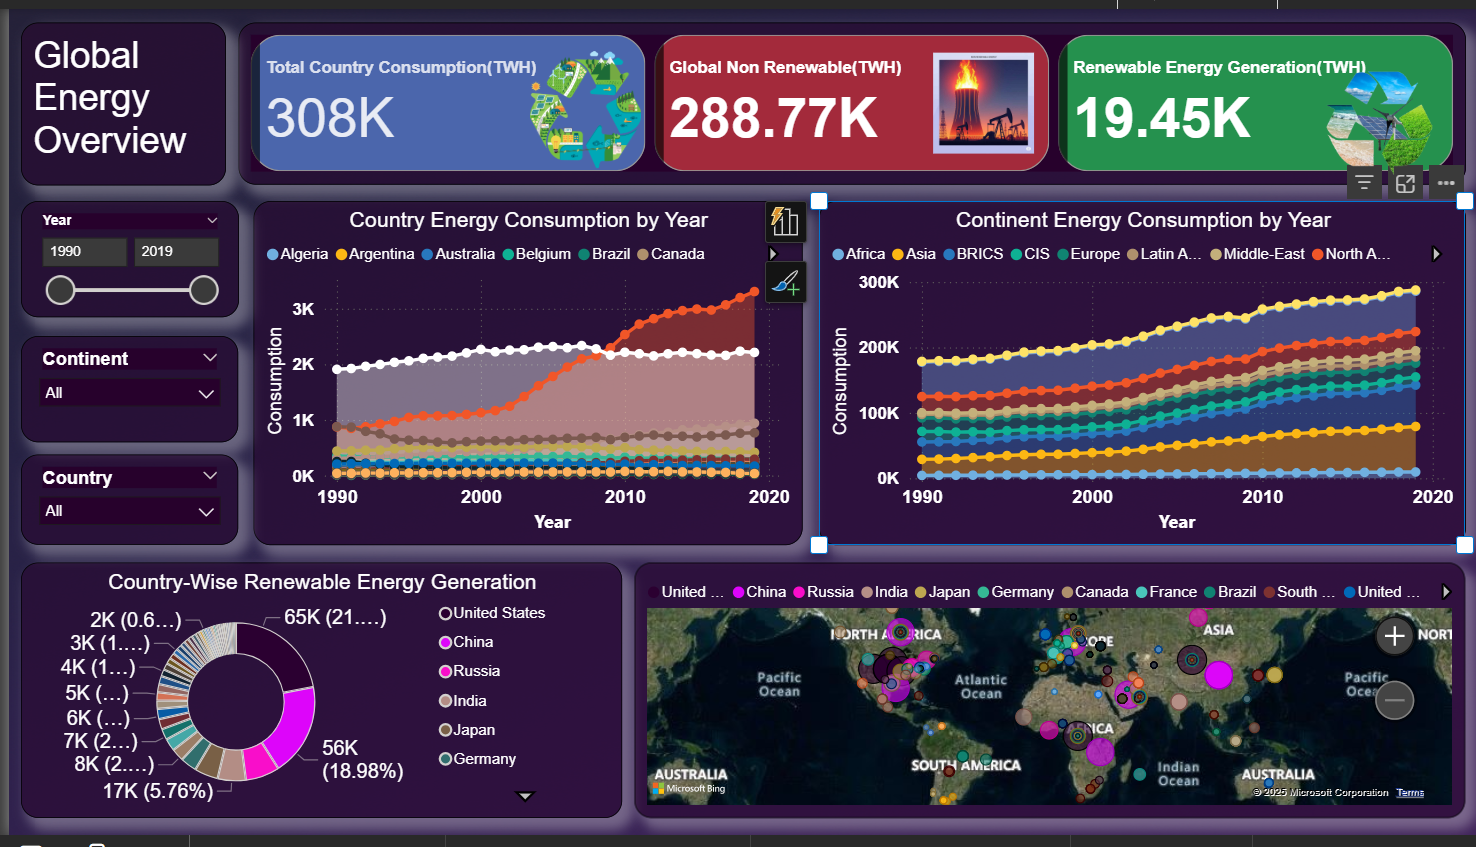

The dashboard page shown, as its layout file describes it:
{"tool":"powerbi","page":{"name":"Global Energy Overview","canvas":[1280,720],"ordinal":0},"visuals":[{"type":"cardVisual","fields":{"Data":["Country_Consumption_TWH.Total_Global_Consumption","nonRenewablesTotalPowerGeneration.Total Non- Renewable","Sum(renewablesTotalPowerGeneration.Contribution (TWh))"]},"box":[200,11.4,1070,141.4],"z":0},{"type":"textbox","box":[10,11.7,178.3,141.7],"z":1000},{"type":"clusteredColumnChart","title":"Country-Wise Renewable Energy Generation","fields":{"Category":["Country_Table.Country"],"Y":["Sum(Country_Table.TWH)"]},"box":[10,482.9,524.3,222.9],"z":2000},{"type":"areaChart","title":"Country Energy Consumption by Year","fields":{"Category":["Country_Table.Year"],"Series":["Country_Table.Country"],"Y":["Max(Country_Table.TWH)"]},"box":[212.9,167.1,478.6,300],"z":3000},{"type":"image","box":[800.2,31.4,98.1,100.7],"z":4000},{"type":"stackedAreaChart","title":"Continent Energy Consumption by Year","fields":{"Category":["Continent_Table.Year"],"Y":["Sum(Continent_Table.TWH)"],"Series":["Continent_Table.Continent"]},"box":[705.7,167.1,564.3,300],"z":5000},{"type":"slicer","fields":{"Values":["Continent_Table.Year"]},"box":[10,167.1,190,101.4],"z":6000},{"type":"slicer","fields":{"Values":["Continent_Table.Continent"]},"box":[10.5,285,189.6,92.8],"z":7000},{"type":"slicer","fields":{"Values":["Country_Table.Country"]},"box":[10.5,388.3,189.6,78.5],"z":8000},{"type":"map","fields":{"Category":["Country_Table.Country","Continent_Table.Continent"],"Series":["Country_Table.Country"],"Size":["Sum(Country_Table.TWH)"]},"box":[545.7,482.9,724.3,222.9],"z":9000},{"type":"image","box":[427.6,31.4,150.4,112.4],"z":10000},{"type":"image","box":[1142.8,45.8,103.3,107.2],"z":11000}]}

Visuals, with their boxes in screenshot pixels (x1, y1, x2, y2), scaled from the page's 1280x720 canvas onto the 1476x847 screenshot:
cardVisual - Country_Consumption_TWH.Total_Global_Consumption x nonRenewablesTotalPowerGeneration.Total Non- Renewable: [x1=231, y1=13, x2=1464, y2=180]
textbox: [x1=12, y1=14, x2=217, y2=180]
"Country-Wise Renewable Energy Generation" clusteredColumnChart: [x1=12, y1=568, x2=616, y2=830]
"Country Energy Consumption by Year" areaChart: [x1=246, y1=197, x2=797, y2=549]
image: [x1=923, y1=37, x2=1036, y2=155]
"Continent Energy Consumption by Year" stackedAreaChart: [x1=814, y1=197, x2=1464, y2=549]
slicer - Continent_Table.Year: [x1=12, y1=197, x2=231, y2=316]
slicer - Continent_Table.Continent: [x1=12, y1=335, x2=231, y2=444]
slicer - Country_Table.Country: [x1=12, y1=457, x2=231, y2=549]
map - Country_Table.Country x Continent_Table.Continent: [x1=629, y1=568, x2=1464, y2=830]
image: [x1=493, y1=37, x2=667, y2=169]
image: [x1=1318, y1=54, x2=1437, y2=180]
